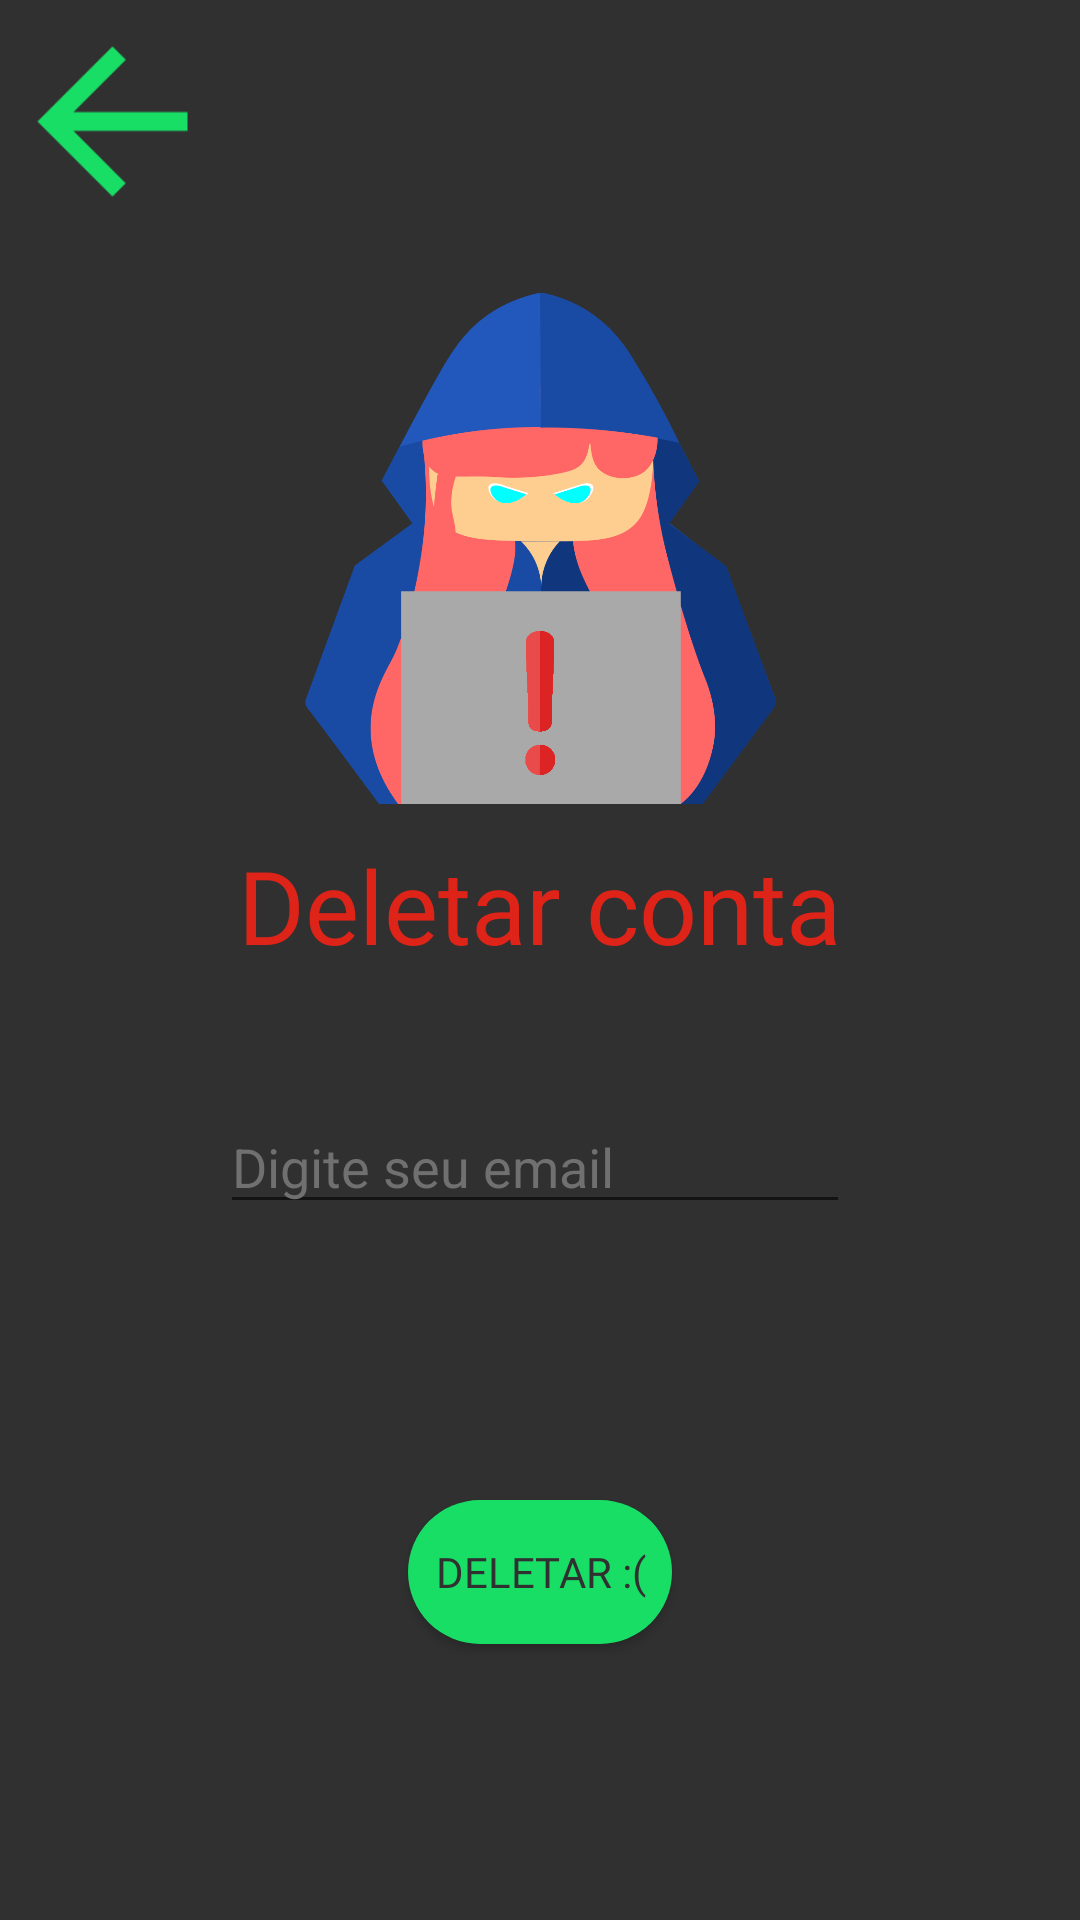

Icons on this 1080*1920 Android screen, each with its box as (x1, y1, x2, y2):
voltar: (37, 46, 188, 197)
